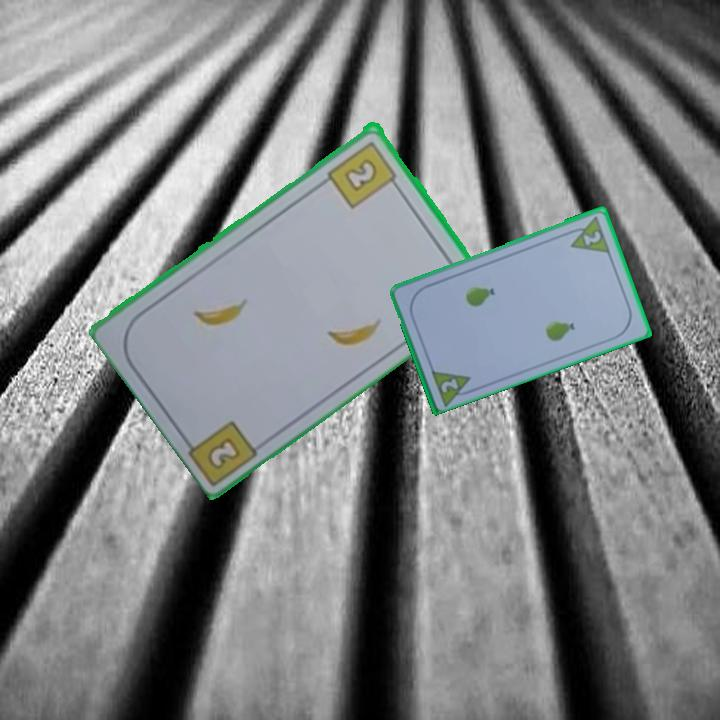2b: (324, 137, 403, 211), (203, 433, 244, 472)
2p: (437, 374, 462, 396), (580, 227, 604, 248)
